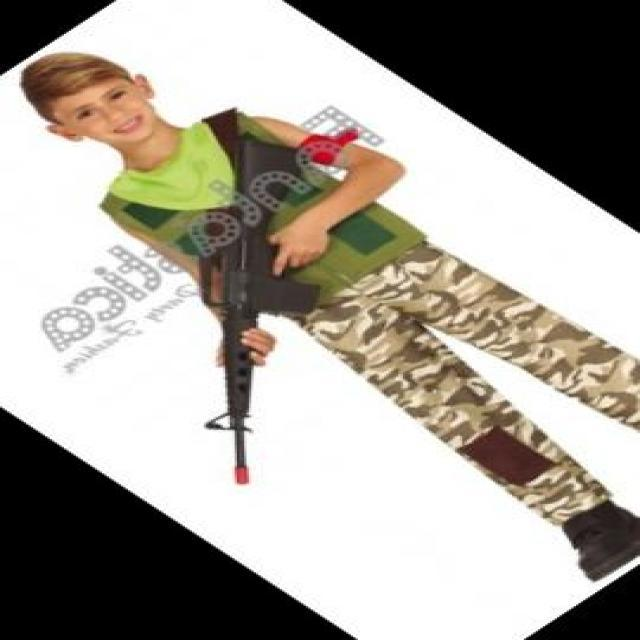weapon: (201, 136, 323, 487)
